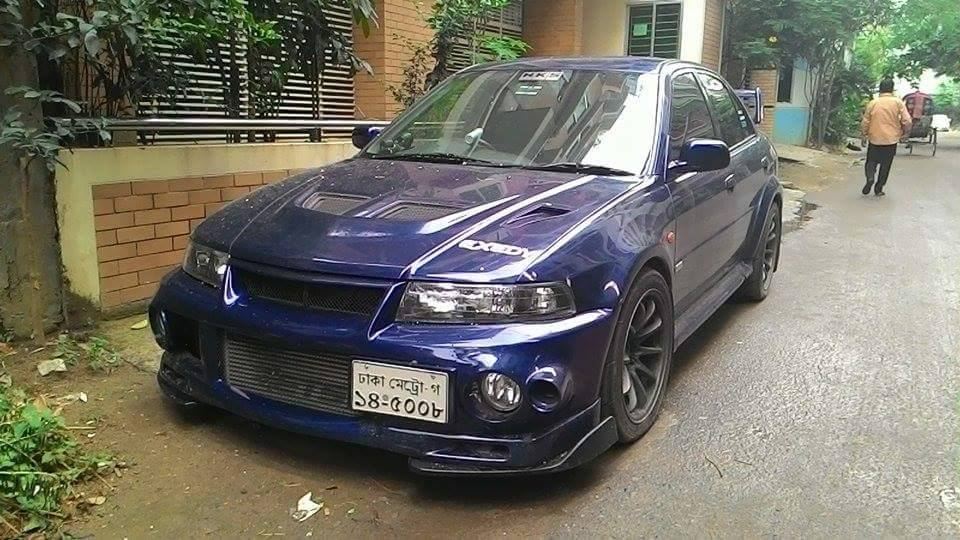registration_plate: (351, 359, 449, 425)
